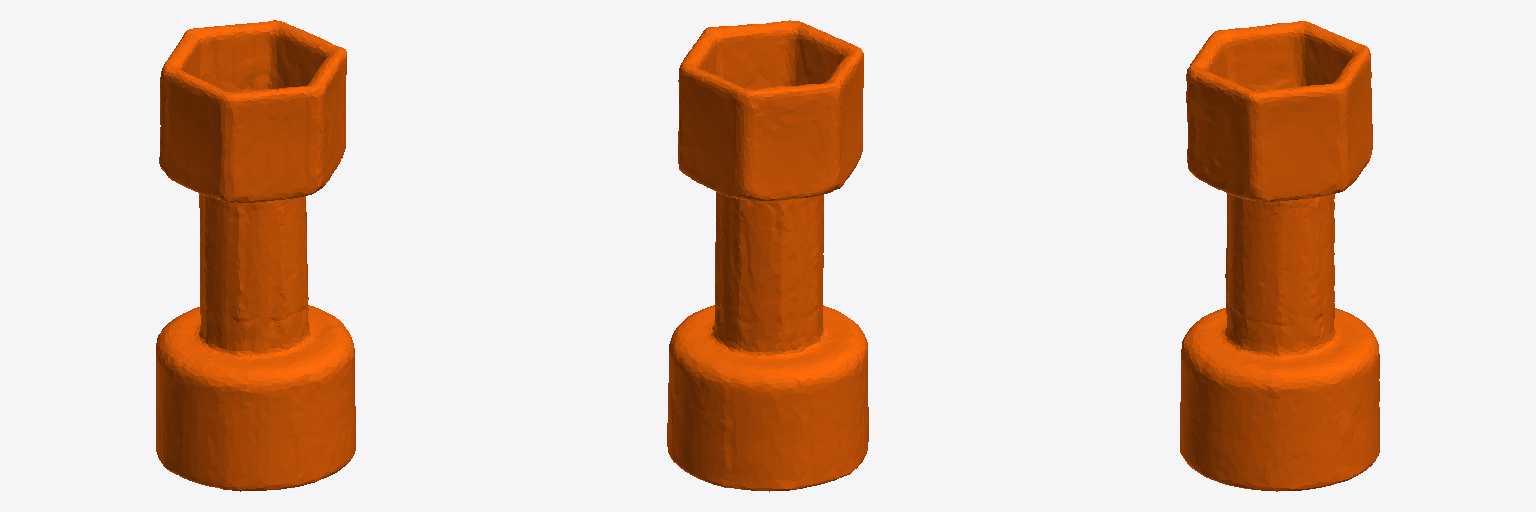
URDF robot description (072-c_toy_airplane):
<?xml version="1.0" ?>
<robot name="072-c_toy_airplane">
   <material name="obj_color">
      <color rgba="1.0 0.423529411765 0.0392156862745 1.0"/>
   </material>
   <link name="top">
      <inertial>
         <origin rpy="4.546399245821545e-06 1.801323420441744e-05 1.803928318383632e-05" xyz="7.935672831270023e-05 1.076311352268061e-05 -0.006266067557570514"/>
         <mass value="0.04089049665468428"/>
         <inertia ixx="1.802091055951934e-05" ixy="1.27157135399927e-08" ixz="2.786883165236537e-07" iyy="1.802582726663403e-05" iyz="1.474309922595127e-08" izz="4.55217880792193e-06"/>
      </inertial>
      <visual>
         <origin rpy="0 0 0" xyz="0 0 0"/>
         <geometry>
            <mesh filename="top_watertight_tiny.stl" scale="1 1 1"/>
         </geometry>
         <material name="obj_color"/>
      </visual>
      <collision>
         <origin rpy="0 0 0" xyz="0 0 0"/>
         <geometry>
            <mesh filename="top_watertight_tiny.obj" scale="1 1 1"/>
         </geometry>
      </collision>
   </link>
   <link name="bottom">
      <inertial>
         <origin rpy="1.633333333199431e-08 1.633333333199431e-08 1.633333333362855e-08" xyz="0.3464080000000008 0.3464080000000008 0.3464080000000008"/>
         <mass value="0.0009800000000000017"/>
         <inertia ixx="1.633333333253906e-08" ixy="5.447480642029219e-19" ixz="5.447480642029219e-19" iyy="1.633333333253906e-08" iyz="5.447480642029219e-19" izz="1.633333333253906e-08"/>
      </inertial>
      <visual>
         <origin rpy="0 0 0" xyz="0 0 0"/>
         <geometry>
            <mesh filename="bottom_watertight_tiny.stl" scale="1 1 1"/>
         </geometry>
         <material name="obj_color"/>
      </visual>
   </link>
   <joint name="rotation" type="revolute">
      <origin xyz="0 0 0"/>
      <axis xyz="0 0 -1"/>
      <parent link="bottom"/>
      <child link="top"/>
      <dynamics damping="1.0" friction="1.0"/>
      <limit effort="0.1" velocity="0.1" lower="0" upper="0.001"/>
   </joint>
</robot>

--- What the picture shows (computed from the rendered views, not written in the file) ---
3 views of the same robot in one strip: view 1: azimuth 30°, elevation 25°; view 2: azimuth 150°, elevation 25°; view 3: azimuth 270°, elevation 25° (orthographic).
Robot: 072-c_toy_airplane — 2 links, 1 joints (1 revolute); root link bottom; default pose: all joints at 0.
Visible links, largest first — view 1: top; view 2: top; view 3: top.
Boxes of the visible links, <box> form: top: <box>156,20,355,491</box>; top: <box>667,20,868,491</box>; top: <box>1180,21,1379,491</box>.
Bounding box of the posed robot: 0.0307 × 0.0306 × 0.0667 m (x, y, z).
Meshes: 2 distinct files referenced, 1 mesh visuals loaded (1 binary STL); not drawn: 1 (reference not matched to a file when rendering).
